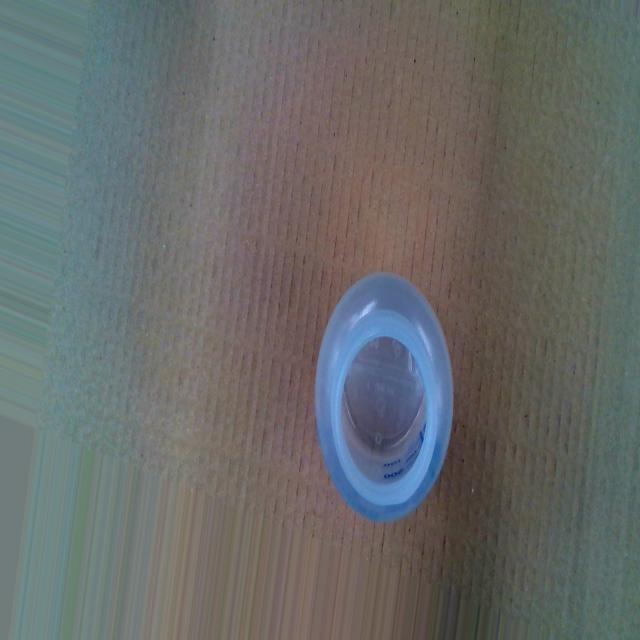bottle: (313, 265, 455, 528)
